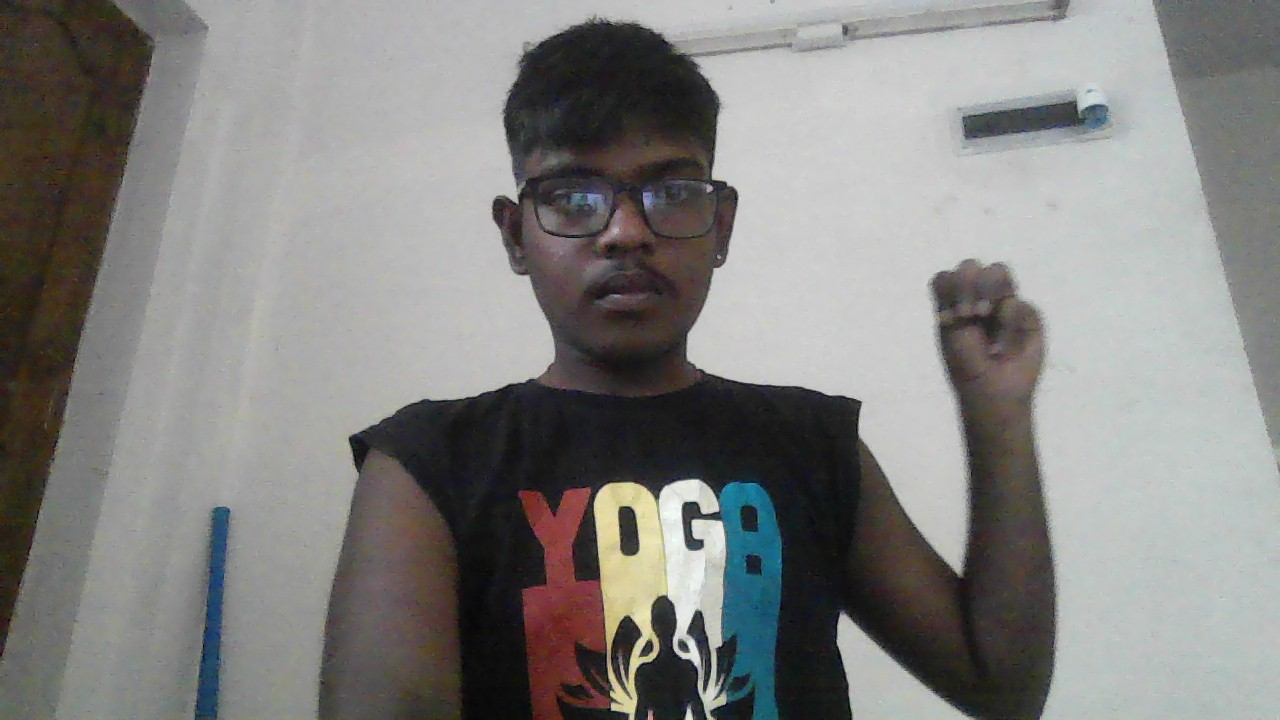M: (931, 258, 1045, 418)
